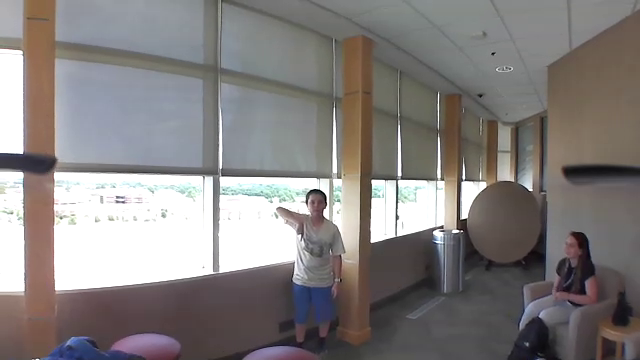down: (291, 219, 307, 242)
